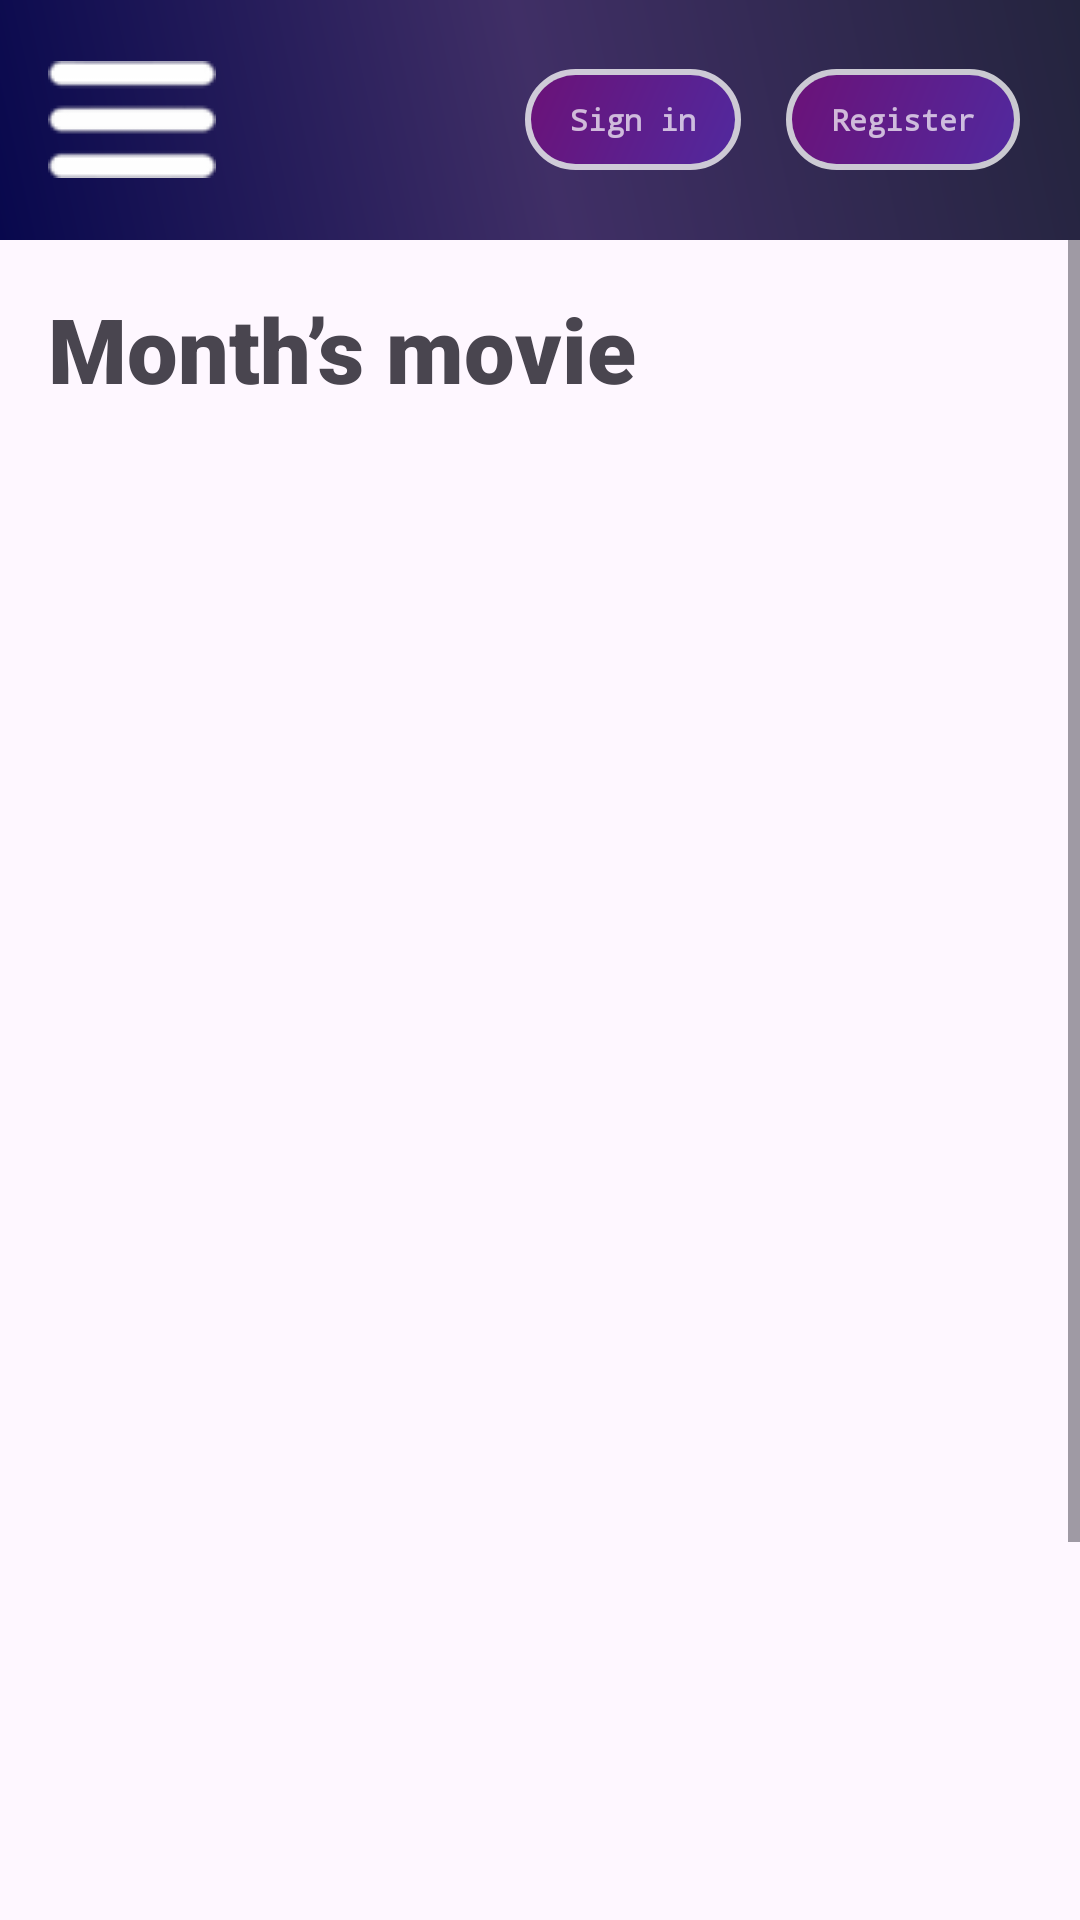

Locate icon controls on the screen. Image size 1080px×1920px, boxes as (left=x1, top=y1, right=x2, bottom=y2).
menu: (left=48, top=61, right=216, bottom=178)
